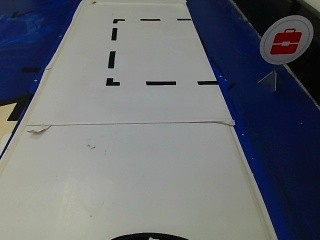company: (258, 13, 312, 63)
